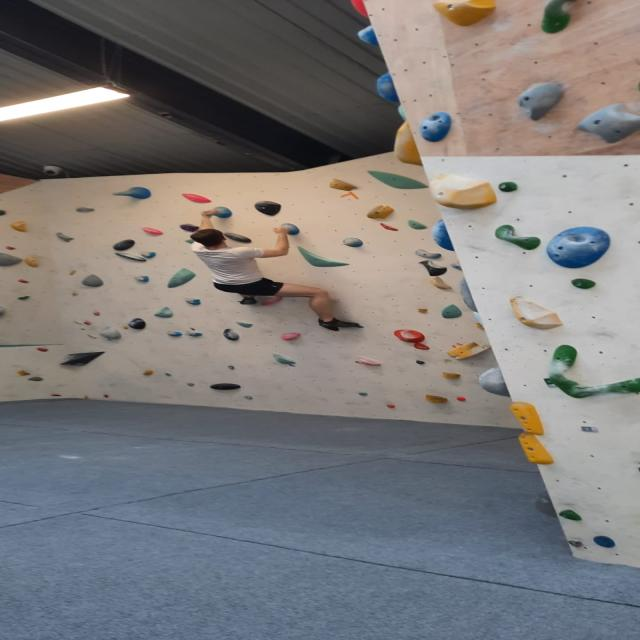Jug: (536, 344, 640, 400), (489, 224, 547, 252)
Pinch: (506, 77, 572, 123), (572, 104, 640, 144), (498, 295, 566, 331), (502, 432, 557, 465), (508, 399, 549, 436), (443, 341, 495, 363), (389, 328, 427, 343), (323, 178, 361, 193), (365, 206, 400, 221), (417, 262, 451, 276)
Pocket: (544, 224, 615, 272), (411, 111, 460, 143)
Sloper: (427, 173, 498, 212), (289, 244, 356, 270), (473, 365, 522, 396), (162, 266, 202, 290)
